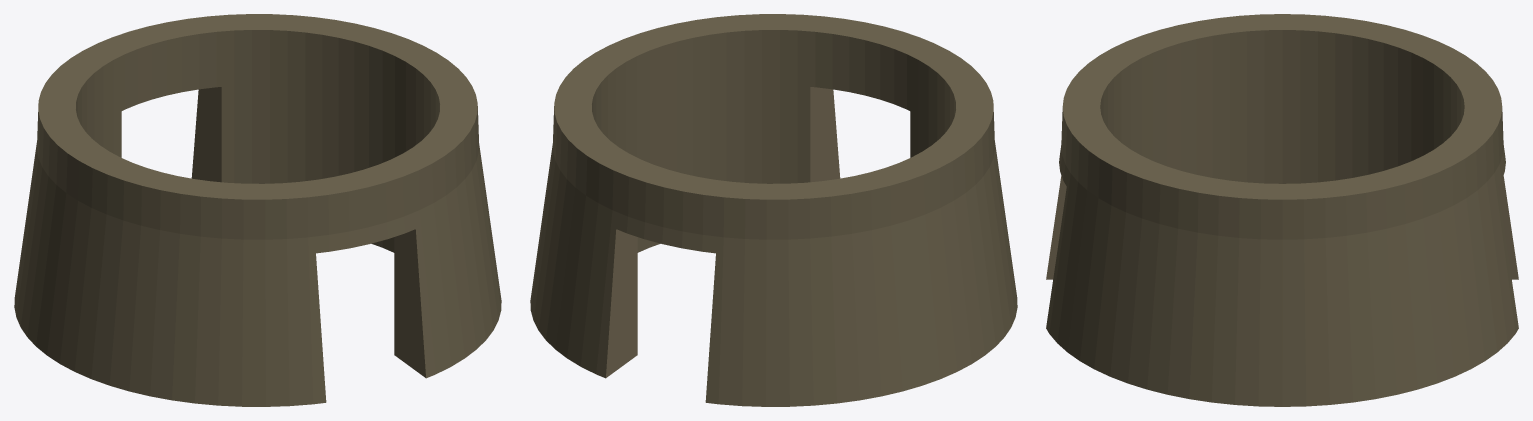
3 renders of one model, left to right at view 1: azimuth 30°, elevation 25°; view 2: azimuth 150°, elevation 25°; view 3: azimuth 270°, elevation 25°, orthographic.
Parts seen in each view (by area): view 1: V3_Collision_Murs; view 2: V3_Collision_Murs; view 3: V3_Collision_Murs.
Boxes of the visible parts, left/top/right/bottom form: V3_Collision_Murs: left=14, top=14, right=501, bottom=406; V3_Collision_Murs: left=530, top=14, right=1017, bottom=406; V3_Collision_Murs: left=1046, top=14, right=1518, bottom=406.
Bounding box in the file's own units: 829 × 370 × 804.
